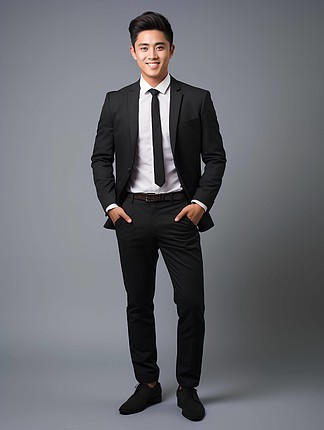up: (88, 5, 235, 429)
